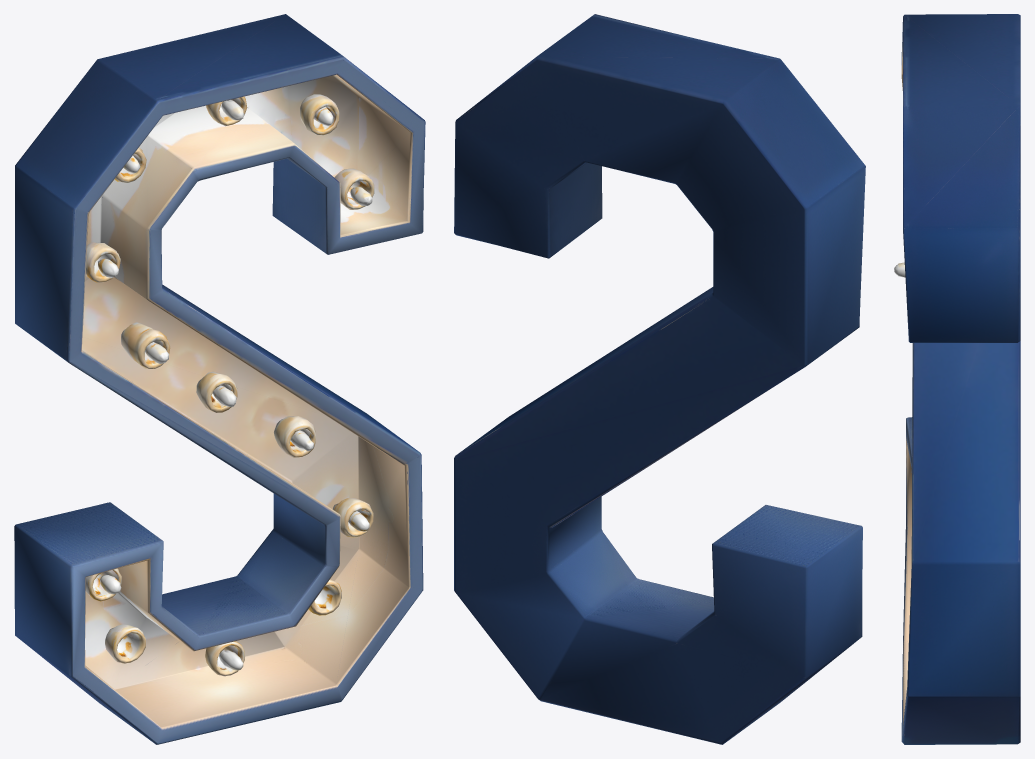
Rendered from Letter_s.glb.
3 views of the same model, side by side, from view 1: azimuth 30°, elevation 25°; view 2: azimuth 150°, elevation 25°; view 3: azimuth 270°, elevation 25° (orthographic).
Visible parts, largest first — view 1: Mesh_0; view 2: Mesh_0; view 3: Mesh_0.
Part boxes in pixels (box(x1,y1,x2,y2)): Mesh_0: box(14, 14, 425, 744); Mesh_0: box(454, 14, 865, 744); Mesh_0: box(894, 14, 1020, 744).
Bounding box in the file's own units: 0.5239 × 0.9144 × 0.1634.
1 material, 1 textured.
